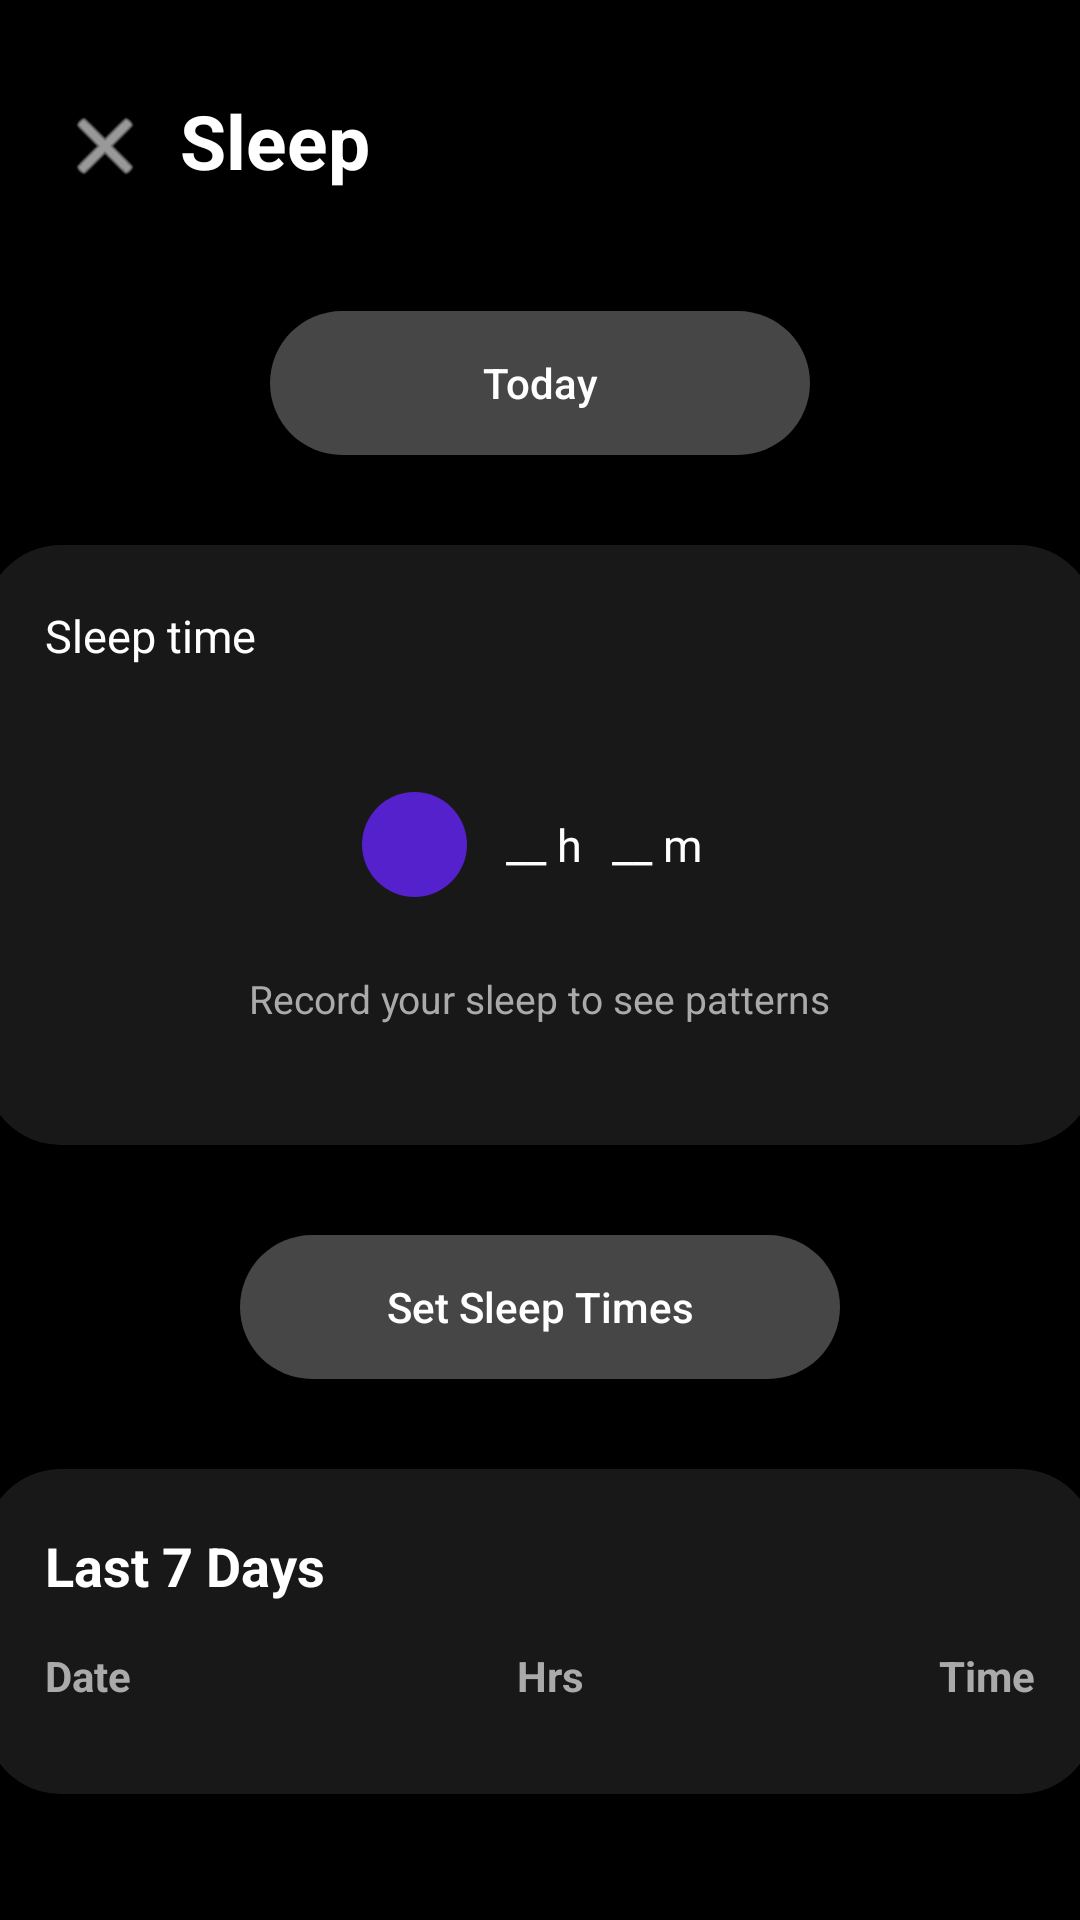

Named icons in this screenshot (1080*1920) and their centers, (x,y):
close clear cancel: (105,146)
